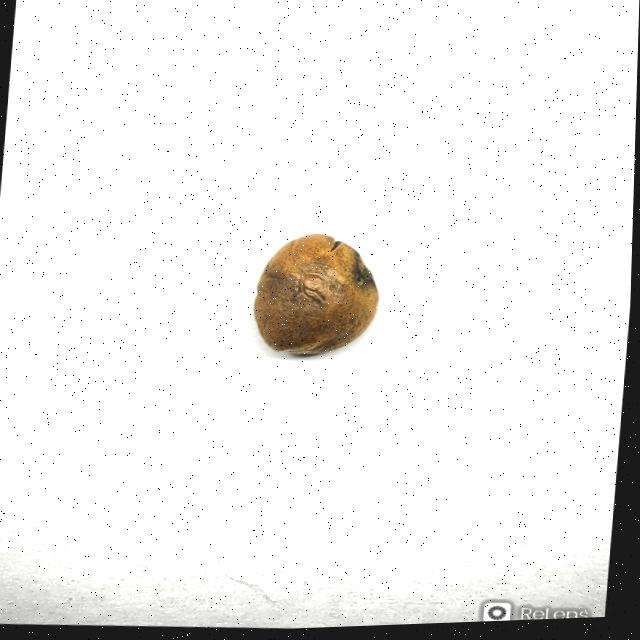Insect damage: (251, 234, 386, 359)
